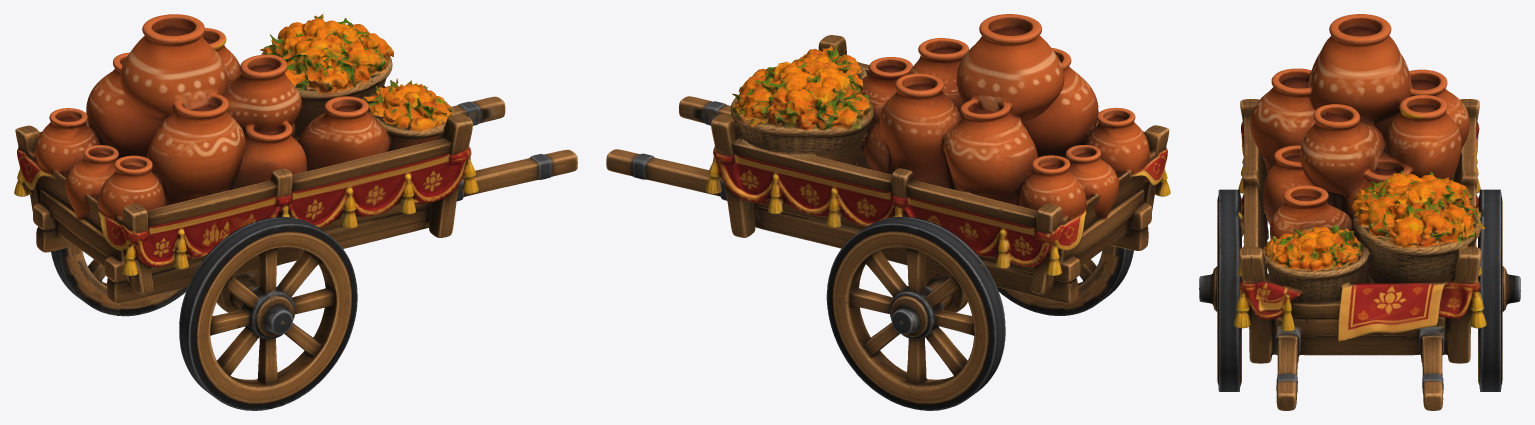
The model's file is marigold_market_cart.glb.
3 views of the same model, side by side, from view 1: azimuth 30°, elevation 25°; view 2: azimuth 150°, elevation 25°; view 3: azimuth 270°, elevation 25° (orthographic).
Size of the model in its own units: 1.9 by 1.31 by 1.12.
1 material, 1 textured.
